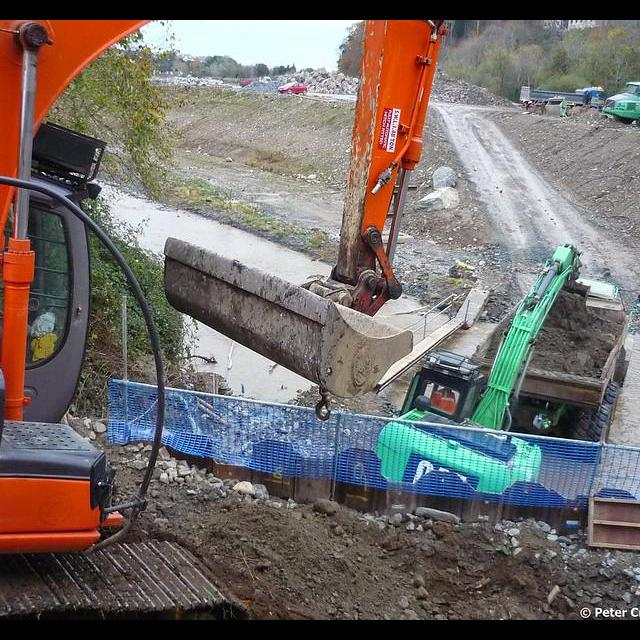Excavator: (0, 20, 448, 619), (378, 243, 583, 497)
Person: (433, 386, 456, 412)
Safety Vest: (436, 389, 455, 411)
dump truck: (517, 82, 607, 108), (603, 80, 640, 127), (240, 74, 271, 87)
sedan: (277, 81, 307, 95)
